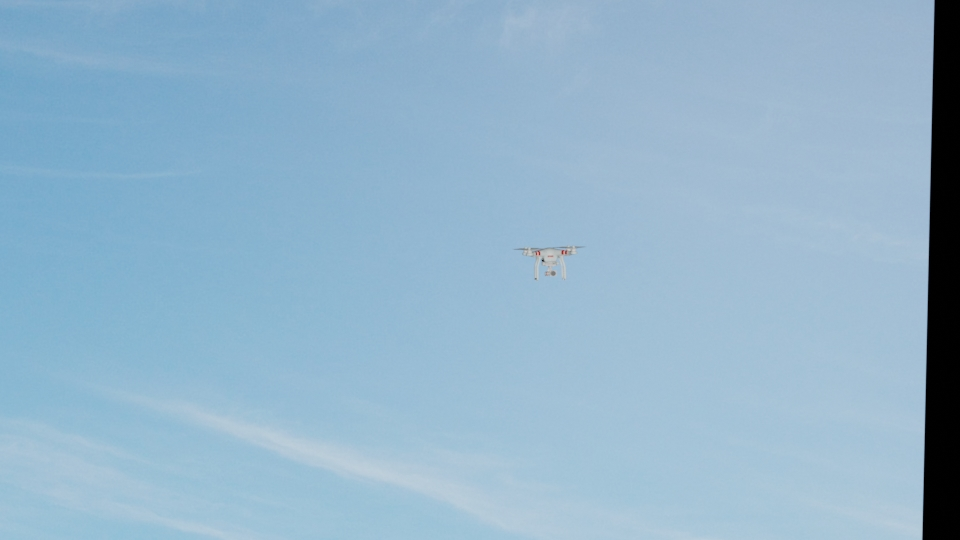drone: (514, 242, 582, 280)
